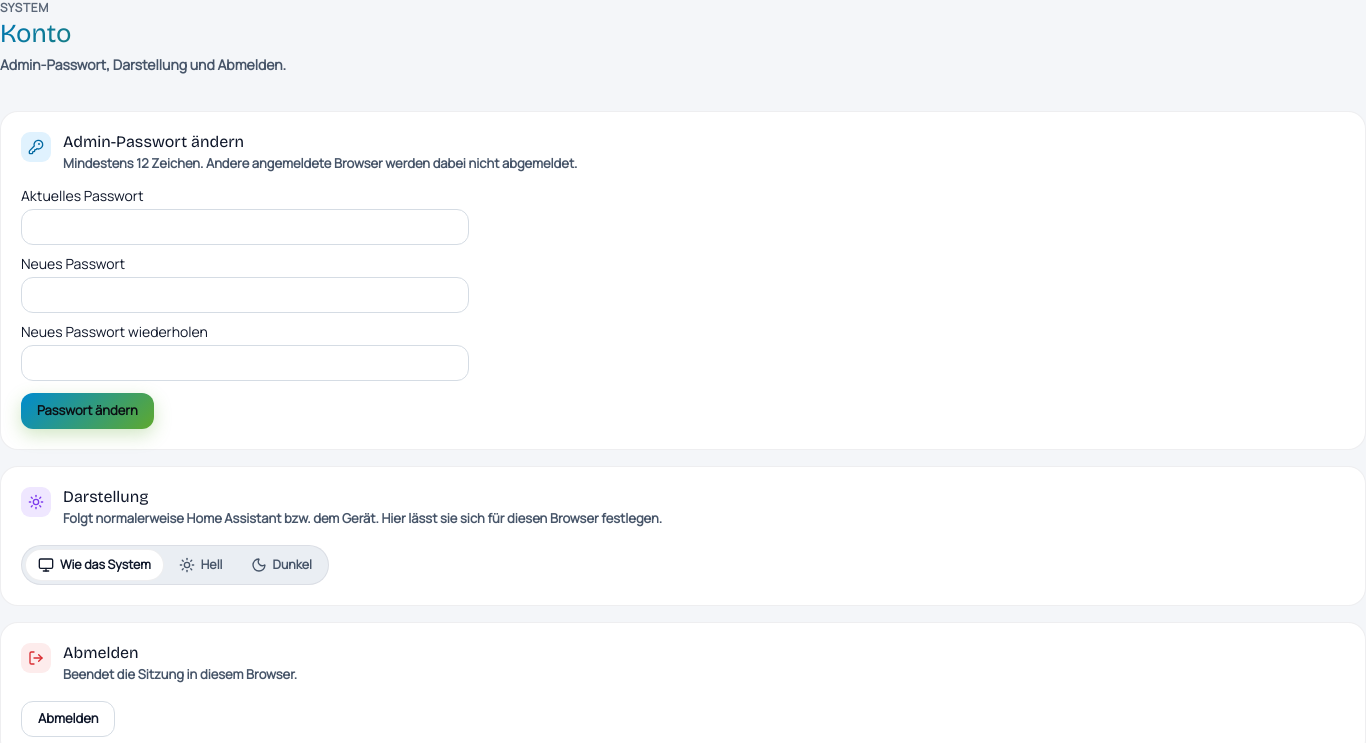
Test: Konto › verlangt das aktuelle Passwort
In the password field labelled "Neues Passwort": (245, 295) x1=21 y1=277 x2=469 y2=313, type "ein-sehr-gutes-passwort"
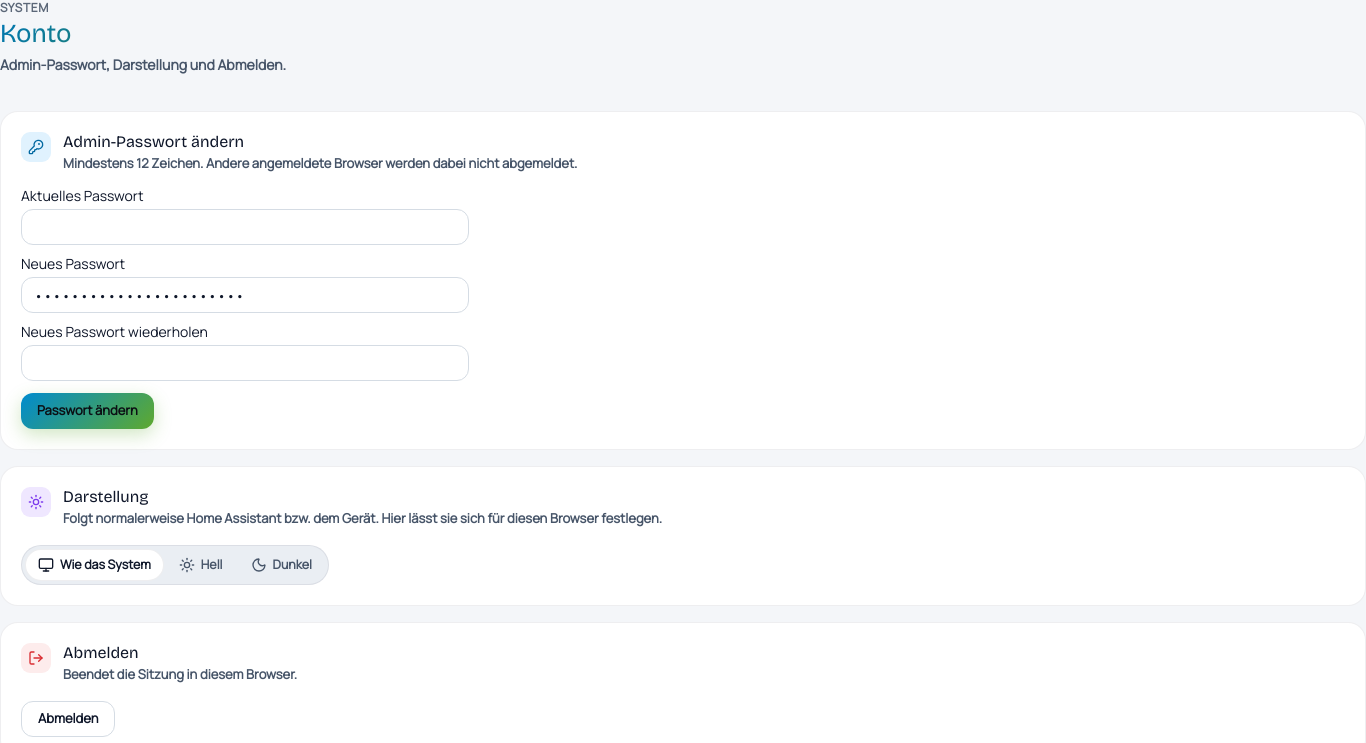
In the password field labelled "Neues Passwort wiederholen": (245, 363) x1=21 y1=345 x2=469 y2=381, type "ein-sehr-gutes-passwort"
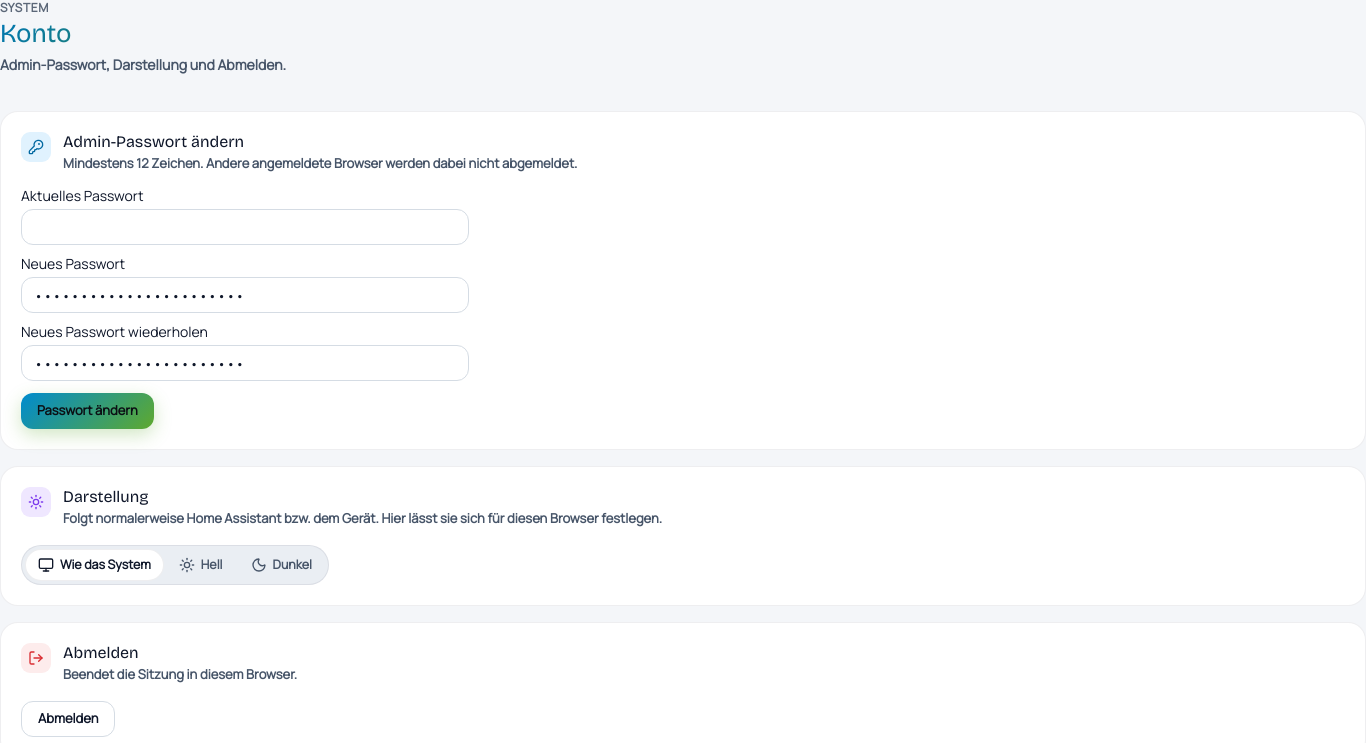
Click the button "Passwort ändern": (87, 411) x1=21 y1=393 x2=154 y2=429
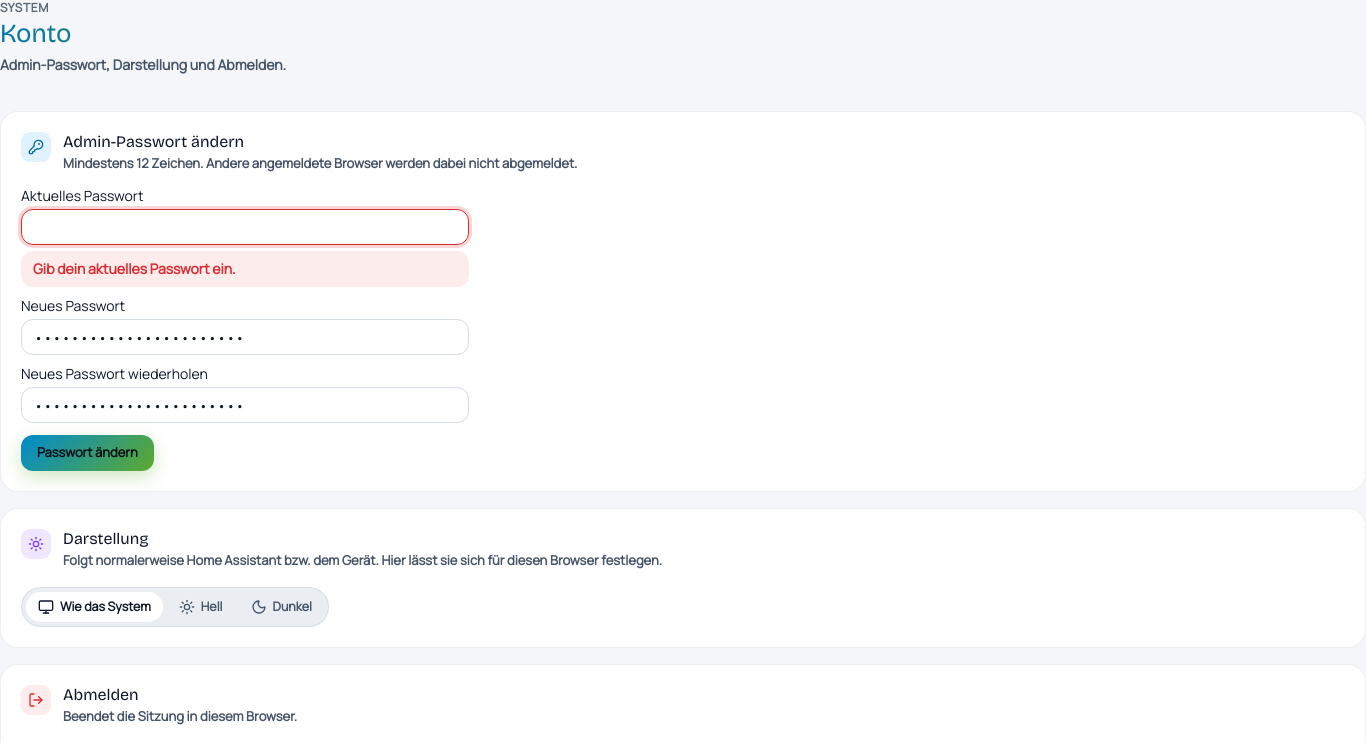
expect the message reads "Gib dein aktuelles Passwort ein.": met, box x1=33 y1=259 x2=236 y2=278
